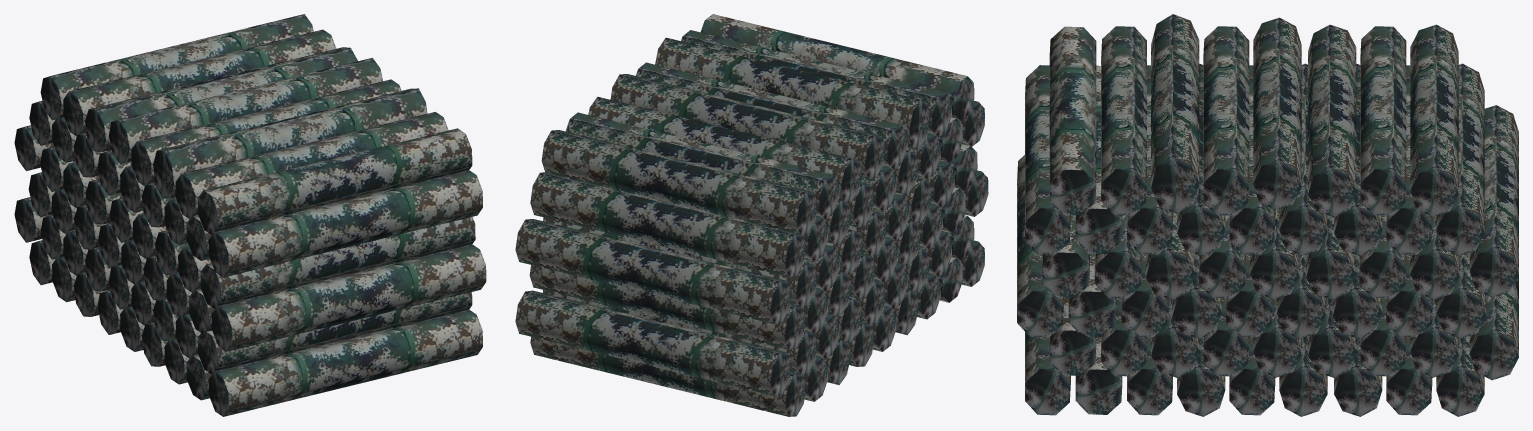
File: zhangpeng.FBX
3 renders of one model, left to right at view 1: azimuth 30°, elevation 25°; view 2: azimuth 150°, elevation 25°; view 3: azimuth 270°, elevation 25°, orthographic. The views are drawn at different scales.
Parts seen in each view (by area): view 1: Cylinder2249; view 2: Cylinder2249; view 3: Cylinder2249.
Part boxes in pixels (x1=…): Cylinder2249: x1=14, y1=14, x2=486, y2=416; Cylinder2249: x1=515, y1=14, x2=988, y2=416; Cylinder2249: x1=1017, y1=14, x2=1518, y2=416.
Size of the model in its own units: 1.11 by 1.65 by 0.9409.
